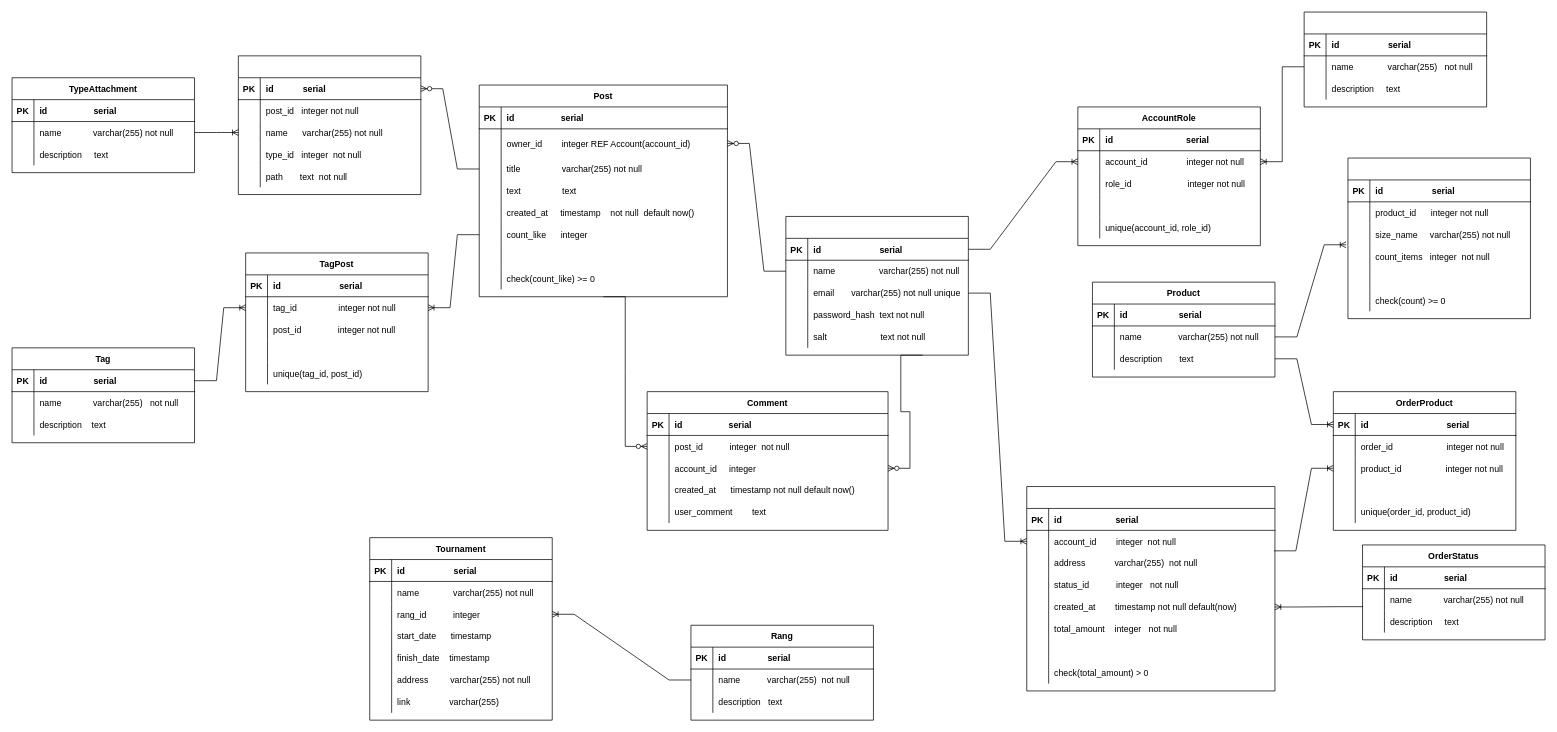
The diagram is 1557 pixels wide and 732 high, and some of its shapes have lost their labels. The shapes that lost their labels are listed below. From the top down, each one's box as (x1, y1, x2, y2) in pixels, then its label:
(1303, 11, 1487, 107): Role
(238, 55, 421, 195): Attachment
(1347, 157, 1530, 319): ProductInfo
(785, 216, 968, 355): Account
(1026, 486, 1275, 691): Order
